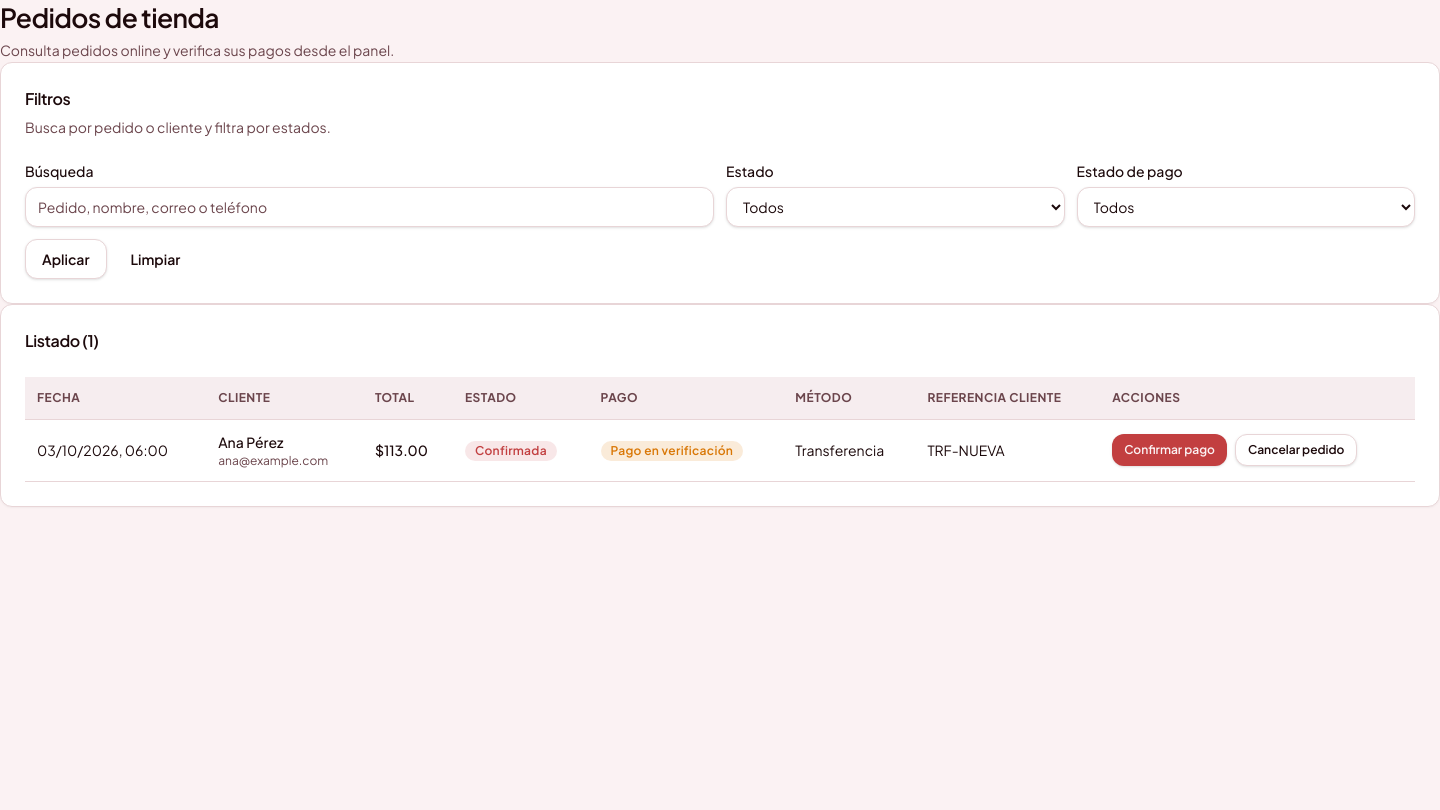
Scenario: PedidosTiendaContent › cierra el diálogo ante un 409 si el pedido fresco ya no es cancelable
This screenshot has width=1440, height=810.
Click the button "Cancelar pedido" at {"x": 1296, "y": 450}, box [1235,434,1357,466]
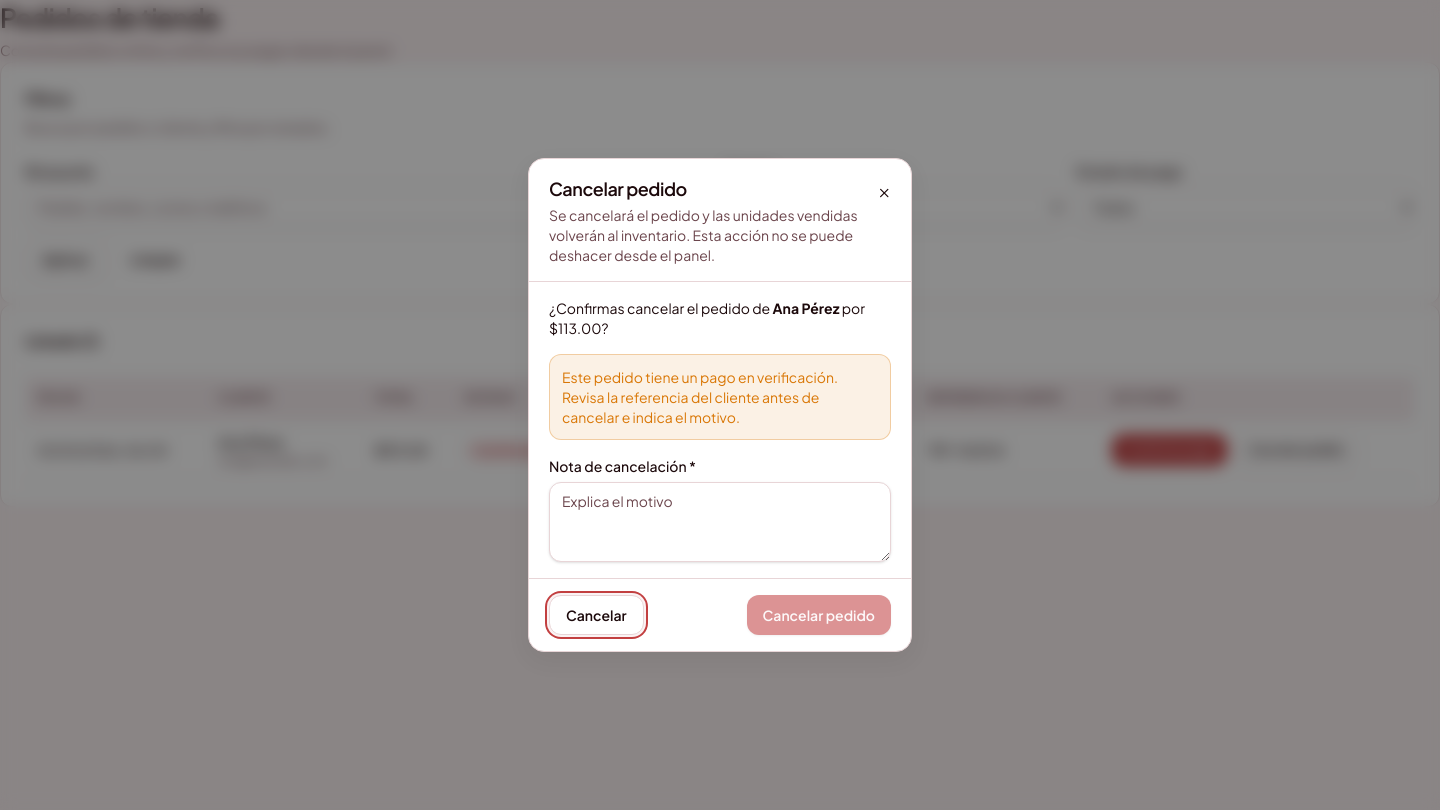
Type "Pedido ya no es necesario" into the text box labelled "Nota de cancelación" at {"x": 720, "y": 522}, box [549,482,891,562]
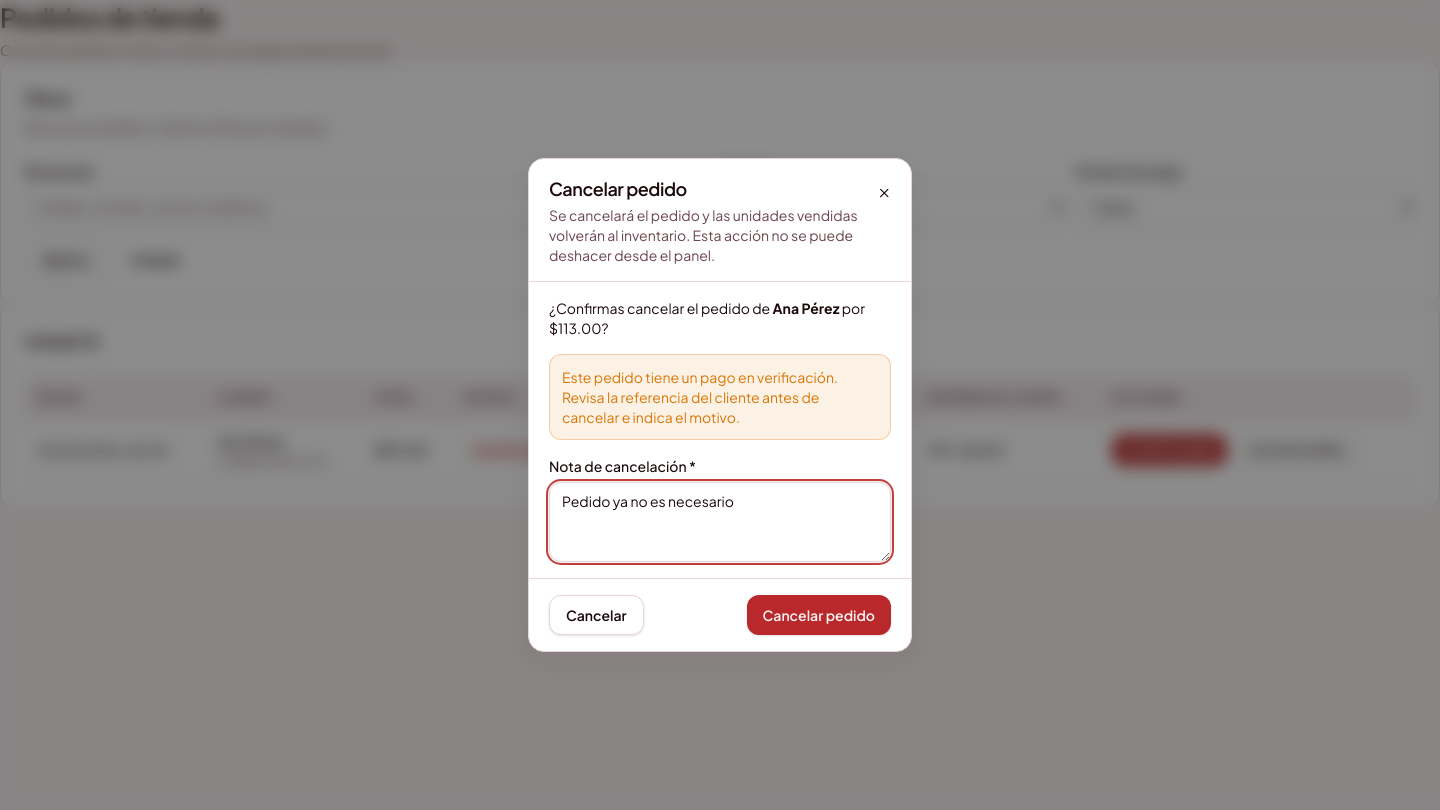
Click the button "Cancelar pedido" at {"x": 819, "y": 615}, box [747,595,891,635]
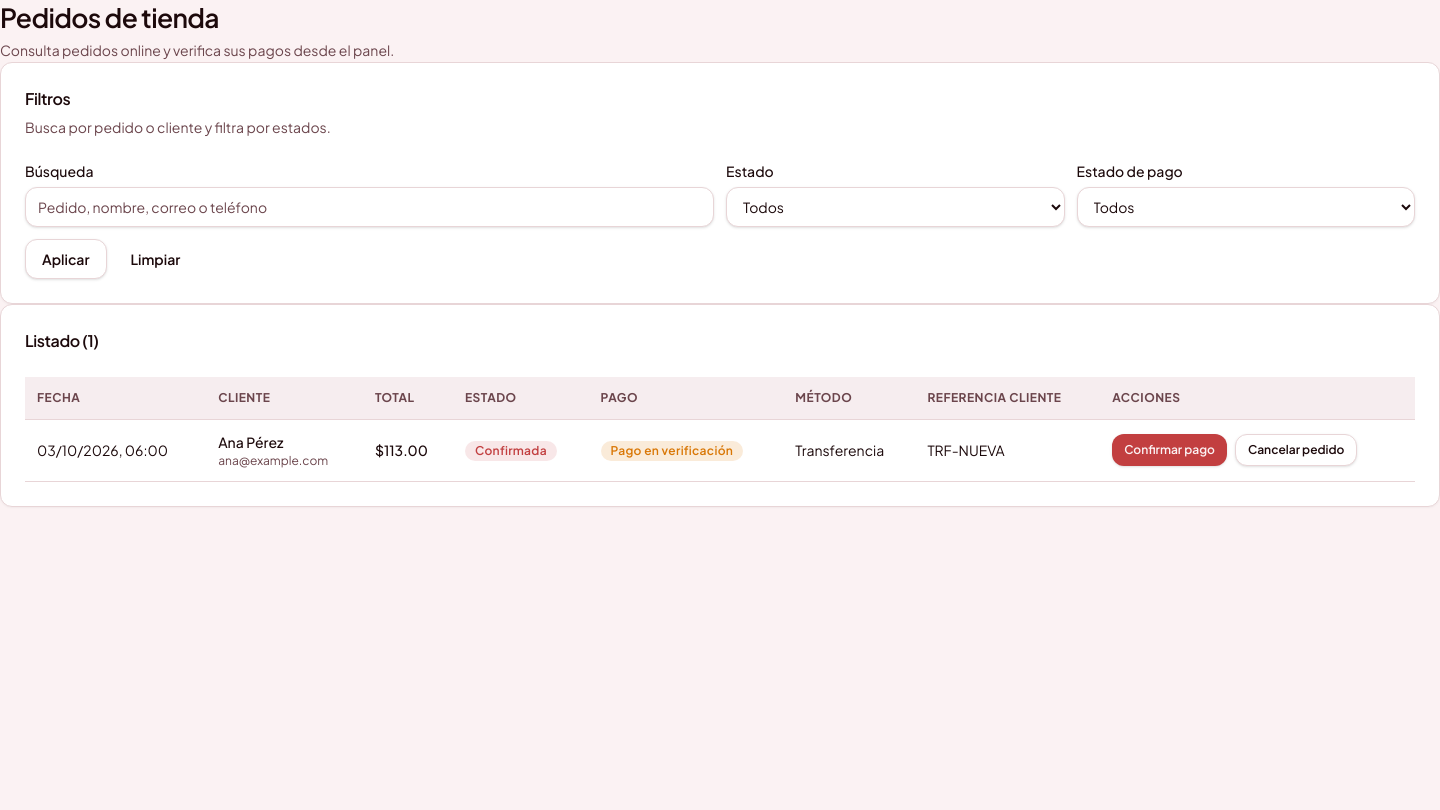
expect the dialog is gone: met
